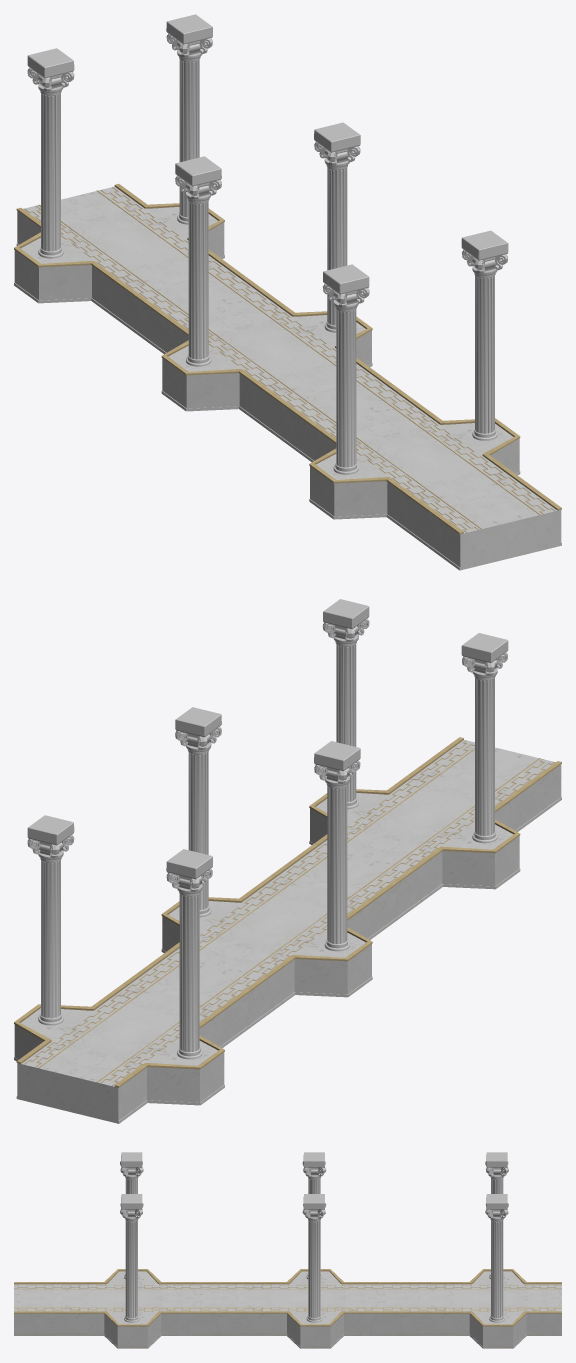
Rendered from Start_Floor.fbx.
3 views of the same model, one above another, from view 1: azimuth 30°, elevation 25°; view 2: azimuth 150°, elevation 25°; view 3: azimuth 270°, elevation 25° (orthographic). The views are drawn at different scales.
Parts seen in each view (by area): view 1: 立方体; view 2: 立方体; view 3: 立方体.
Boxes of the visible parts, x1,y1,x2,y2 form: 立方体: [14, 14, 561, 570]; 立方体: [14, 599, 561, 1123]; 立方体: [14, 1152, 561, 1348].
Size of the model in its own units: 365 by 432 by 1500.
